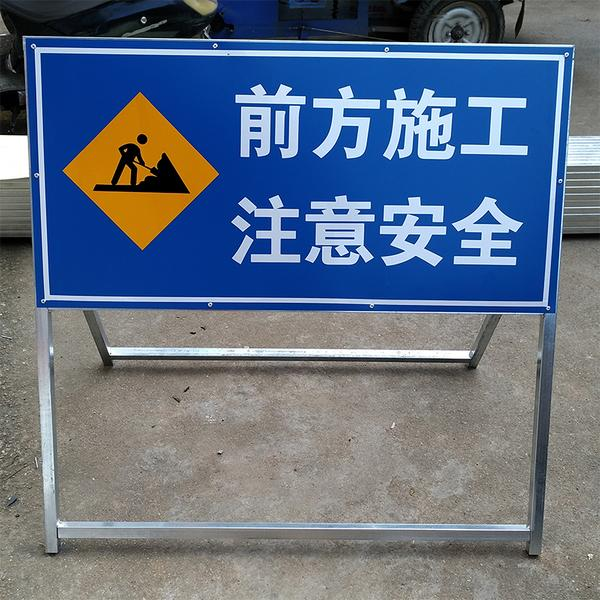sign: (24, 40, 567, 319)
